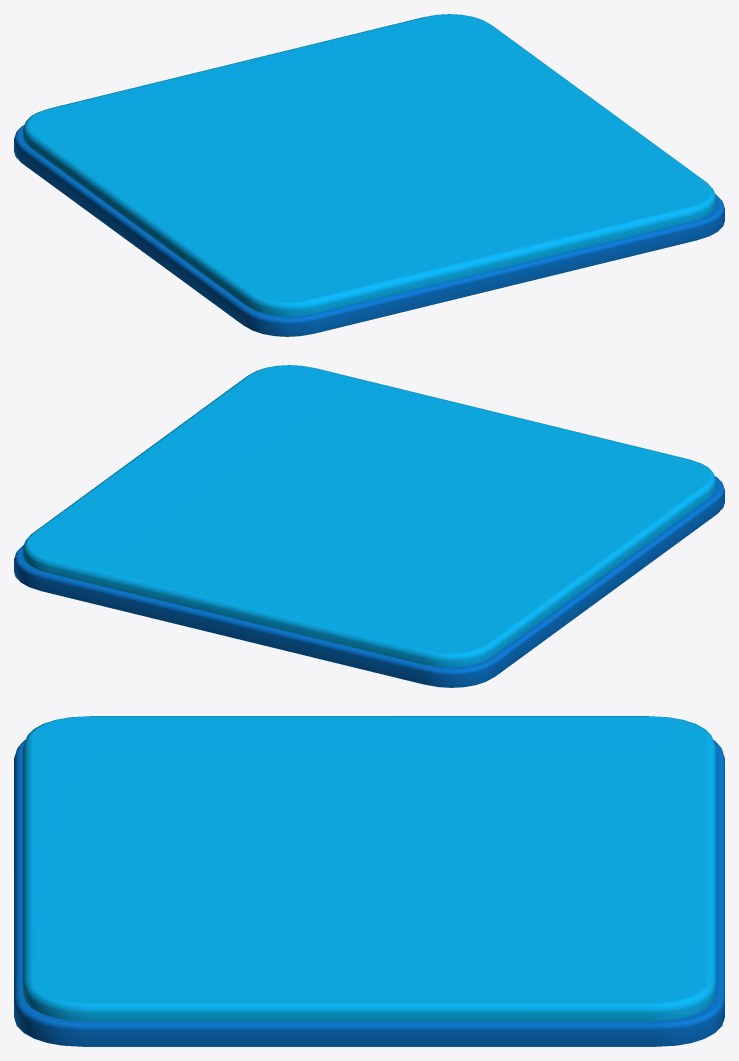
Rendered from City_18_Sports_Area_1.glb.
3 views of the same model, one above another, from view 1: azimuth 30°, elevation 25°; view 2: azimuth 150°, elevation 25°; view 3: azimuth 270°, elevation 25° (orthographic). The views are drawn at different scales.
Visible parts, largest first — view 1: City_18_Sports_Area_1; view 2: City_18_Sports_Area_1; view 3: City_18_Sports_Area_1.
Boxes of the visible parts, bbox=[...] form: City_18_Sports_Area_1: bbox=[14, 14, 724, 336]; City_18_Sports_Area_1: bbox=[14, 365, 724, 687]; City_18_Sports_Area_1: bbox=[14, 716, 724, 1046].
Size of the model in its own units: 4.15 by 0.2422 by 4.15.
1 material, 1 textured.
